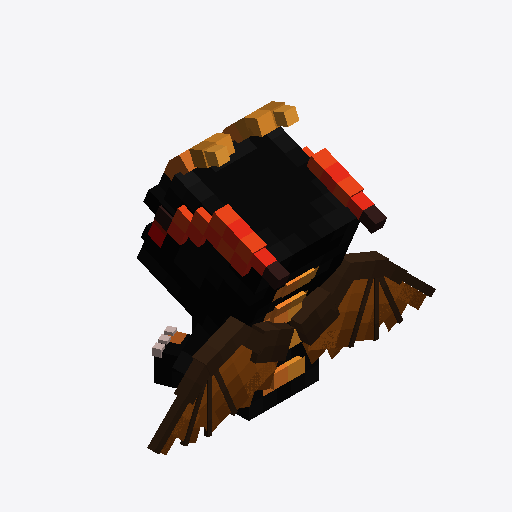
Isometric view (azimuth 45°, elevation 35.3°) of a Minecraft model made of 72 cuboids, textured from the same repository.
Visible parts, largest first — head, horns (×6), left_wing (×4), right_wing (×3), torso, element 40, element 53, left_leg, horn_left, element 41, element 54, left_arm (+4 smaller).
Boxes of the visible parts, box(x1,y1,x2,y2) form: head: box(137, 126, 359, 335); horns (×6): box(167, 148, 386, 289); left_wing (×4): box(147, 316, 294, 453); right_wing (×3): box(289, 251, 388, 345); torso: box(192, 317, 318, 420); element 40: box(219, 345, 276, 409); element 53: box(308, 279, 367, 350); left_leg: box(154, 331, 189, 387); horn_left: box(244, 101, 284, 136); element 41: box(194, 375, 230, 431); element 54: box(355, 276, 392, 340); left_arm: box(172, 323, 210, 374).
Bounding box in the file's own units: 20.07 × 15.87 × 10.97.